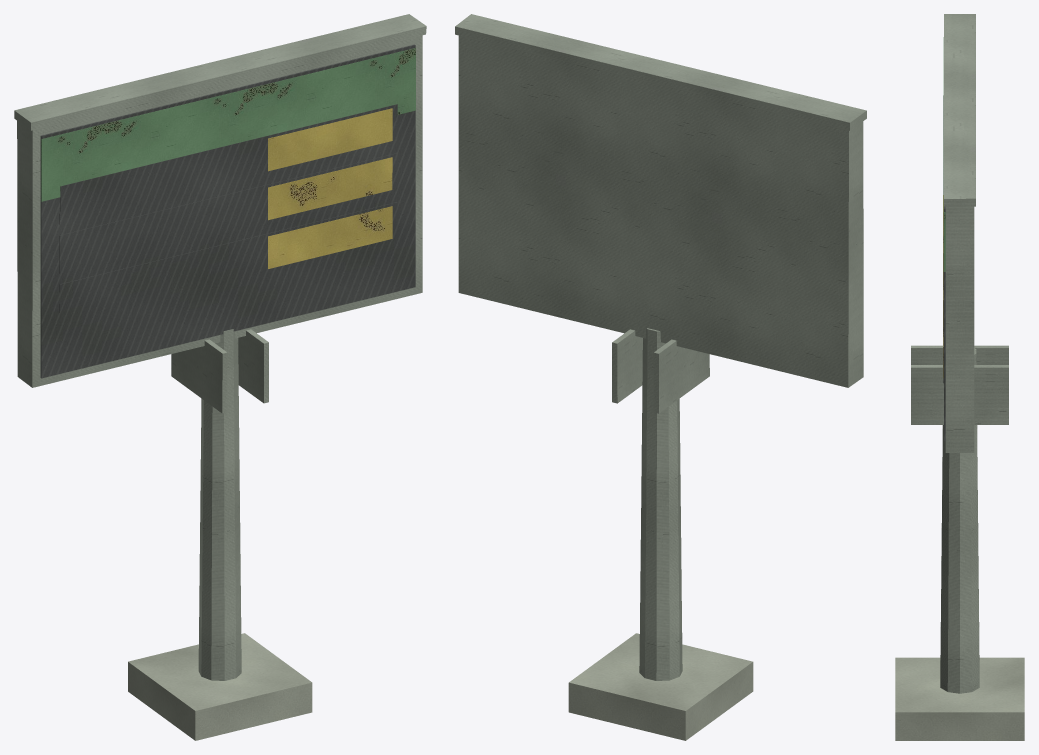
Rendered from roadsign_v1.glb.
The picture shows the model from 3 angles, left to right: view 1: azimuth 30°, elevation 25°; view 2: azimuth 150°, elevation 25°; view 3: azimuth 270°, elevation 25°; orthographic projection. The views are drawn at different scales.
Visible parts, largest first — view 1: Variant_roadsign_1; view 2: Variant_roadsign_1; view 3: Variant_roadsign_1.
Boxes of the visible parts, <box> form: Variant_roadsign_1: <box>14,14,426,740</box>; Variant_roadsign_1: <box>455,14,866,740</box>; Variant_roadsign_1: <box>895,14,1024,740</box>.
Bounding box in the file's own units: 3.04 × 4.66 × 0.9.
5 materials, 5 textured.
